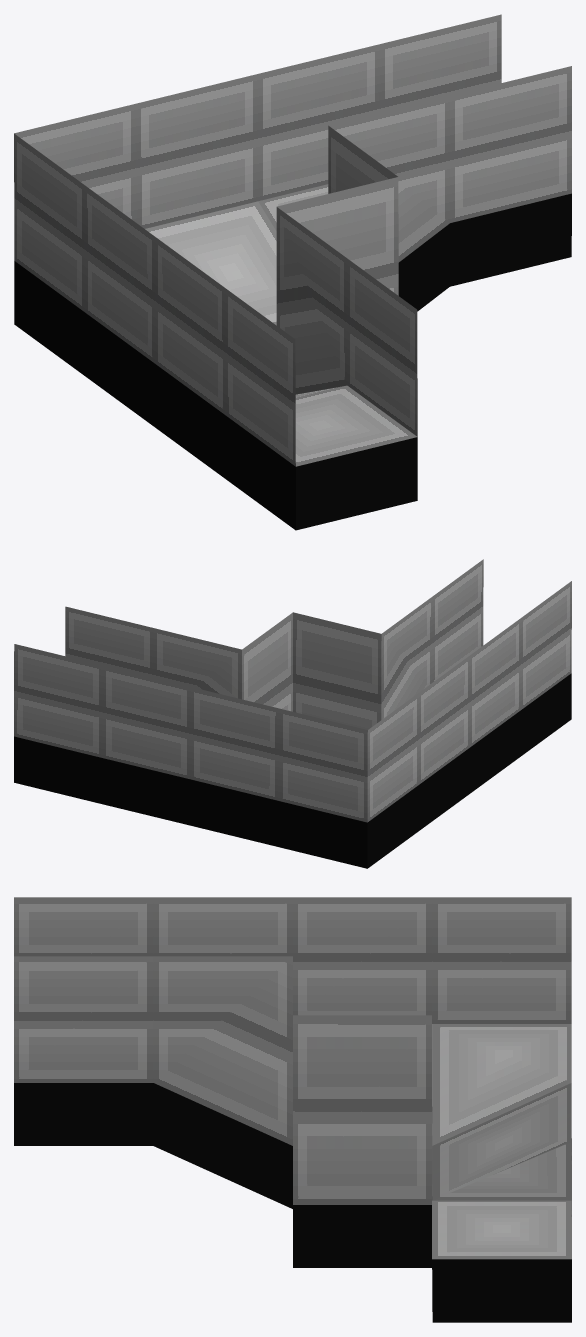
The model's file is LturnWithDip.gltf.
3 views of the same model, one above another, from view 1: azimuth 30°, elevation 25°; view 2: azimuth 150°, elevation 25°; view 3: azimuth 270°, elevation 25° (orthographic). The views are drawn at different scales.
Parts seen in each view (by area): view 1: LturnWithDip; view 2: LturnWithDip; view 3: LturnWithDip.
Part boxes in pixels (x1,y1,x2,y2): LturnWithDip: (14,14,571,530); LturnWithDip: (14,559,571,868); LturnWithDip: (14,897,571,1322).
Bounding box in the file's own units: 8 × 4 × 8.
2 materials, 1 textured.
